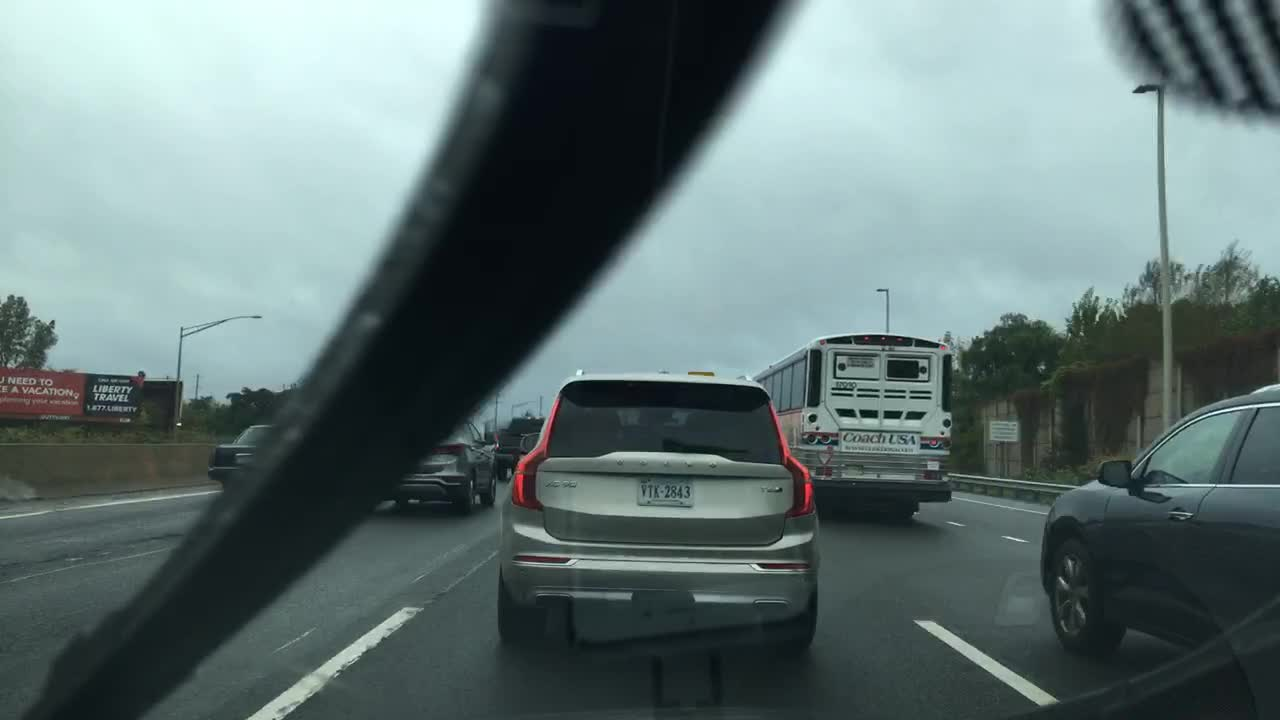bus: (739, 332, 955, 523)
car: (496, 367, 822, 661), (1038, 381, 1276, 659), (379, 417, 496, 511), (209, 421, 291, 498)
traffic sign: (989, 419, 1016, 439)
truck: (494, 414, 554, 483)
